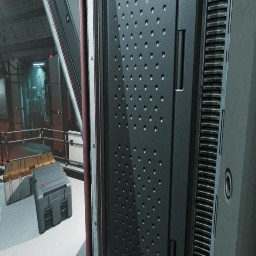FireExtinguisher ]: (0, 179, 4, 184)
